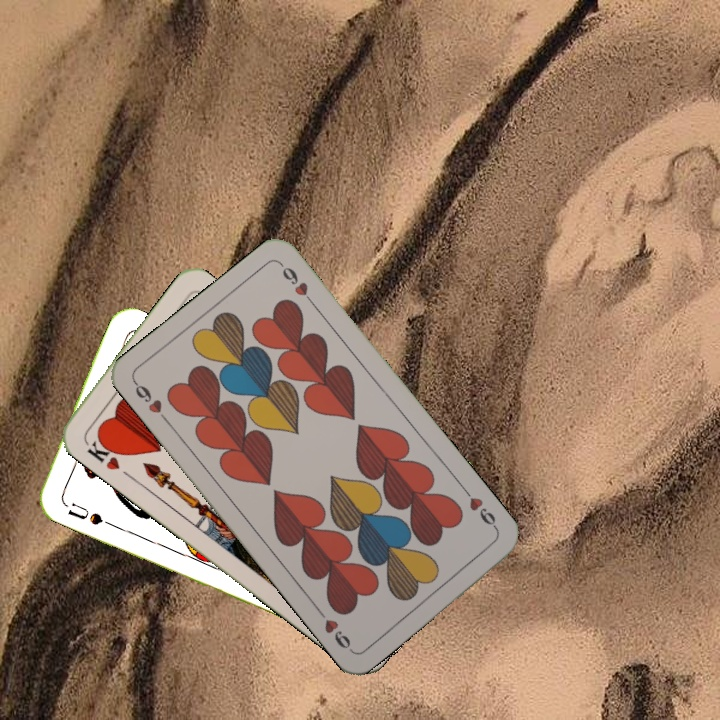H9: (459, 484, 502, 534), (130, 377, 173, 426)
HK: (83, 432, 125, 473)
SU: (63, 498, 105, 528)
